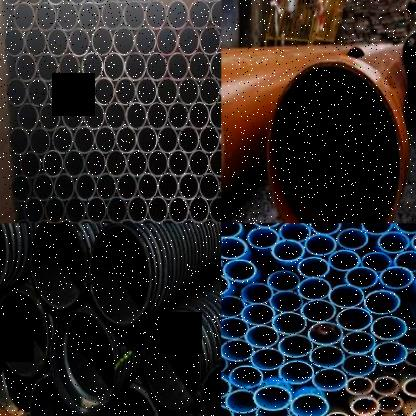pipe: (265, 60, 403, 223), (50, 310, 114, 416), (89, 225, 150, 325), (144, 320, 201, 409), (30, 223, 86, 309), (0, 291, 46, 375), (30, 375, 80, 416), (103, 387, 157, 416), (201, 362, 221, 416), (252, 385, 292, 411), (336, 307, 373, 331), (371, 316, 408, 340), (363, 291, 401, 314), (291, 393, 329, 416), (328, 284, 364, 308), (379, 266, 413, 290), (301, 299, 335, 323), (222, 259, 257, 282), (272, 312, 307, 335), (308, 322, 343, 345), (341, 331, 376, 354), (372, 342, 407, 365), (278, 362, 314, 384), (229, 366, 263, 389), (278, 335, 313, 357), (312, 369, 347, 391), (225, 390, 257, 414), (221, 339, 254, 362), (344, 267, 378, 289), (269, 291, 303, 313), (245, 326, 279, 348), (122, 0, 146, 31), (78, 0, 101, 32), (113, 25, 136, 57), (304, 233, 336, 256), (250, 349, 285, 370), (341, 355, 376, 376), (297, 256, 330, 278), (241, 304, 275, 325), (91, 26, 114, 57), (124, 51, 147, 82), (145, 51, 168, 82), (100, 0, 123, 31), (177, 25, 200, 56), (188, 51, 211, 82), (56, 1, 79, 32), (198, 25, 221, 56), (13, 1, 36, 32), (156, 25, 178, 57), (135, 25, 157, 57), (247, 227, 279, 249), (337, 228, 369, 250), (271, 240, 304, 261), (267, 271, 300, 292), (298, 278, 331, 299), (81, 52, 104, 82), (68, 27, 91, 57), (188, 0, 211, 30), (166, 0, 189, 30), (25, 27, 47, 58), (35, 1, 57, 32), (167, 51, 189, 82), (378, 231, 409, 253), (328, 250, 360, 271), (58, 53, 81, 82), (26, 78, 49, 107), (48, 78, 71, 107), (61, 101, 84, 130), (51, 125, 74, 154), (46, 28, 69, 57), (15, 53, 38, 82), (71, 77, 94, 106), (156, 77, 179, 106), (135, 77, 158, 106), (198, 76, 221, 105), (177, 77, 200, 106), (114, 77, 137, 106), (4, 27, 26, 57), (145, 0, 167, 30), (240, 283, 273, 303), (198, 125, 221, 153), (84, 149, 107, 177), (115, 125, 138, 153), (39, 102, 61, 131), (42, 149, 64, 178), (17, 102, 39, 131), (29, 126, 51, 155), (73, 125, 95, 154), (83, 101, 105, 130), (93, 77, 115, 106), (103, 52, 125, 81), (146, 101, 168, 130), (104, 101, 126, 130), (167, 101, 189, 130), (188, 101, 210, 130), (19, 151, 42, 178), (74, 173, 97, 200), (6, 78, 28, 106), (105, 149, 127, 177), (147, 149, 169, 177), (126, 149, 148, 177), (198, 172, 220, 200), (188, 149, 210, 177), (137, 172, 159, 200), (157, 172, 179, 200), (116, 172, 138, 200), (221, 318, 249, 340), (37, 53, 58, 82), (64, 149, 85, 178), (126, 101, 147, 130), (278, 223, 310, 242), (349, 397, 381, 416), (361, 252, 391, 272), (64, 196, 86, 223), (94, 126, 116, 153), (53, 173, 75, 200), (8, 127, 30, 154), (188, 196, 210, 223), (147, 196, 169, 223), (95, 173, 117, 200), (221, 237, 248, 259), (33, 173, 54, 201), (11, 174, 32, 202), (168, 149, 189, 177), (178, 172, 199, 200), (137, 125, 158, 153), (157, 125, 178, 153), (178, 125, 199, 153), (23, 197, 45, 223), (44, 196, 65, 223), (168, 196, 189, 223), (127, 196, 148, 223), (107, 196, 128, 223), (86, 196, 106, 223), (373, 376, 399, 396), (393, 250, 416, 272), (0, 223, 7, 295), (221, 296, 245, 317), (346, 377, 373, 395), (378, 395, 403, 413), (395, 327, 416, 348), (209, 50, 221, 81), (209, 100, 221, 129), (361, 224, 392, 235), (210, 0, 221, 30), (221, 223, 243, 238), (209, 196, 221, 223), (209, 149, 221, 176), (309, 224, 342, 233), (255, 408, 290, 416), (401, 378, 416, 396), (380, 364, 405, 374), (222, 376, 232, 400), (394, 223, 416, 233), (222, 273, 230, 296), (405, 350, 416, 366), (221, 405, 235, 416), (66, 0, 90, 5), (44, 0, 67, 5), (22, 0, 45, 5), (323, 412, 351, 416), (1, 0, 22, 5), (288, 413, 322, 416), (88, 0, 111, 4), (110, 0, 134, 3), (133, 0, 156, 3), (199, 0, 221, 2), (352, 415, 380, 416)
